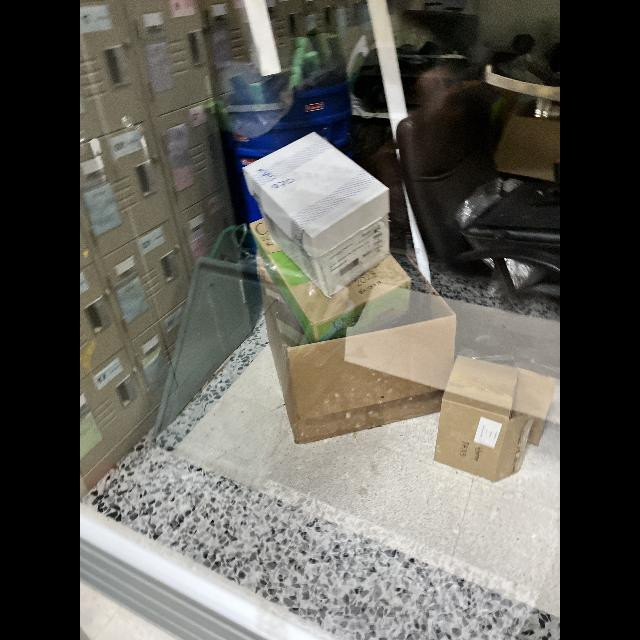cardboard_box: (258, 272, 462, 444), (240, 127, 398, 293), (434, 351, 558, 479)
